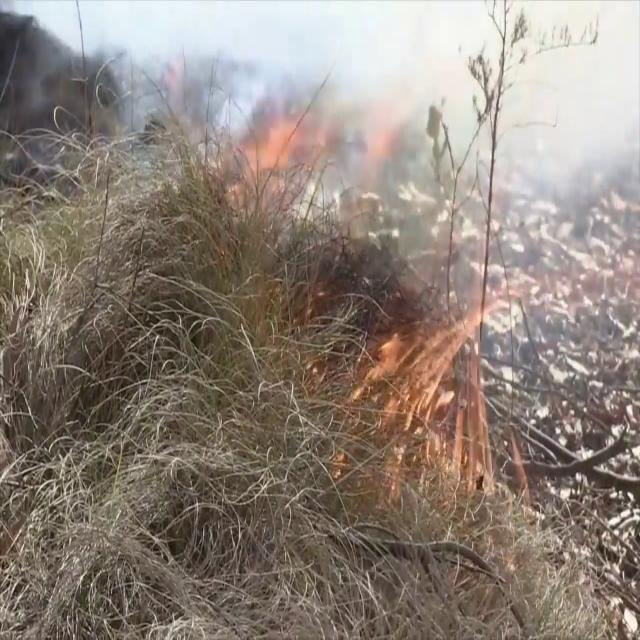Fire: (342, 302, 502, 498)
Smoke: (72, 0, 639, 236)
